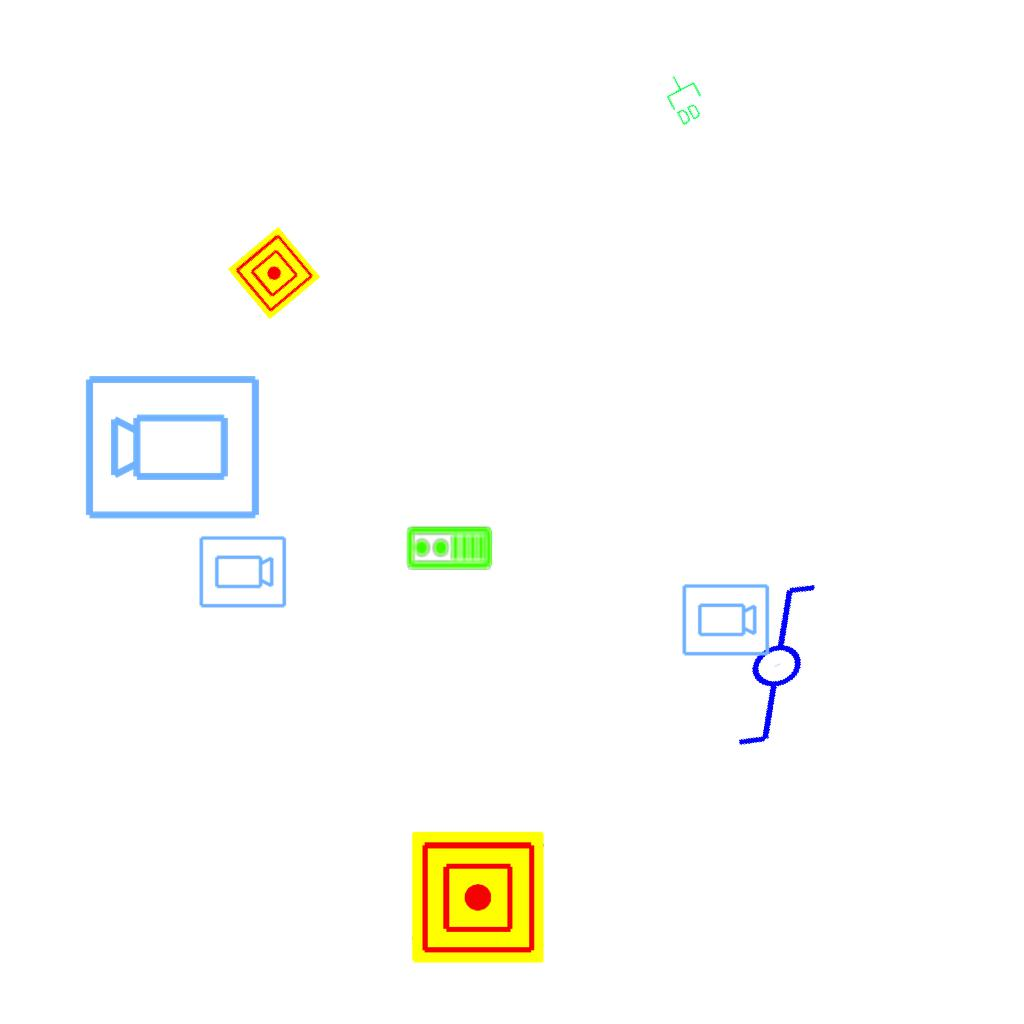Datenanschluss_zweifach: (657, 67, 712, 129)
Gegensprechanlage_mit_Video: (405, 525, 493, 572)
KFO_Kamera_mit_Festobjektiv: (82, 369, 264, 523), (197, 534, 288, 611), (680, 582, 771, 659)
NAM-Nichtautomatischer_Melder: (412, 831, 544, 963), (227, 226, 321, 320)
Wechselschalter: (668, 570, 869, 764)
